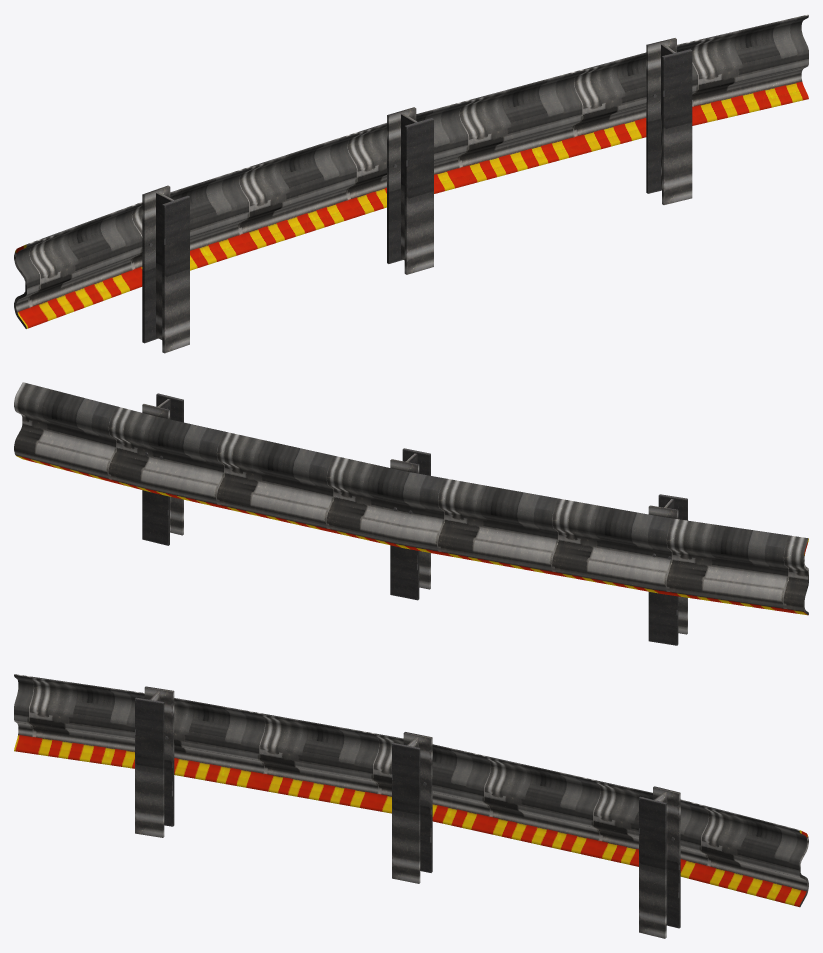
The model's file is Rail 16.FBX.
The picture shows the model from 3 angles, top to bottom: view 1: azimuth 30°, elevation 25°; view 2: azimuth 150°, elevation 25°; view 3: azimuth 330°, elevation 25°; orthographic projection. The views are drawn at different scales.
Visible parts, largest first — view 1: guardrail_small_15deg_out; view 2: guardrail_small_15deg_out; view 3: guardrail_small_15deg_out.
Boxes of the visible parts, box(x1,y1,x2,y2) form: guardrail_small_15deg_out: box(14, 14, 808, 353); guardrail_small_15deg_out: box(14, 382, 808, 645); guardrail_small_15deg_out: box(14, 674, 808, 938).
Bounding box in the file's own units: 589 × 101 × 66.83.
